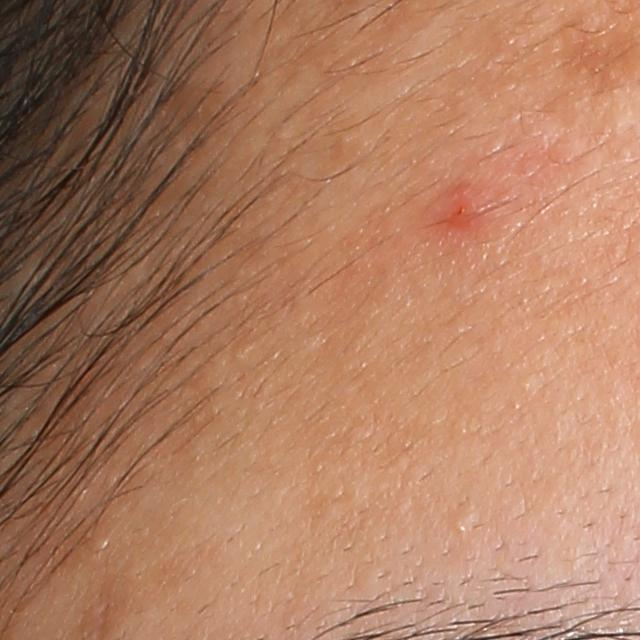comedo: (454, 513, 477, 535)
papule: (433, 183, 490, 234)
